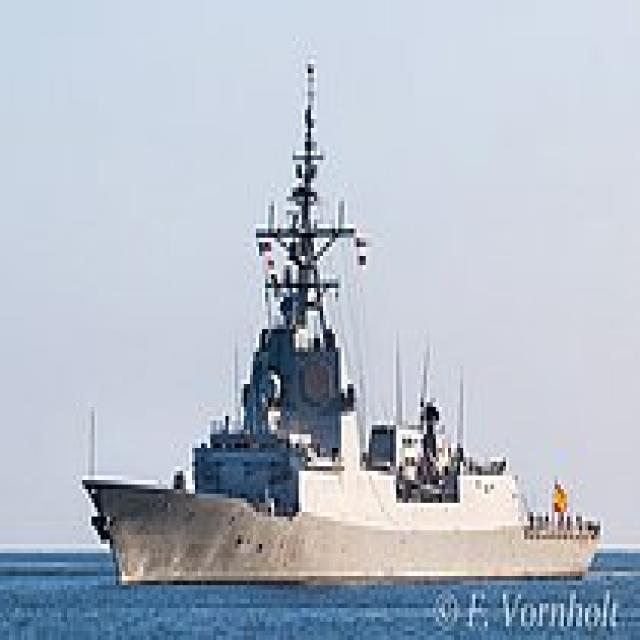Warship: (77, 55, 600, 580)
